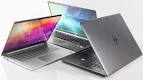laptop: (78, 18, 140, 74), (3, 14, 67, 67), (44, 1, 100, 48)
